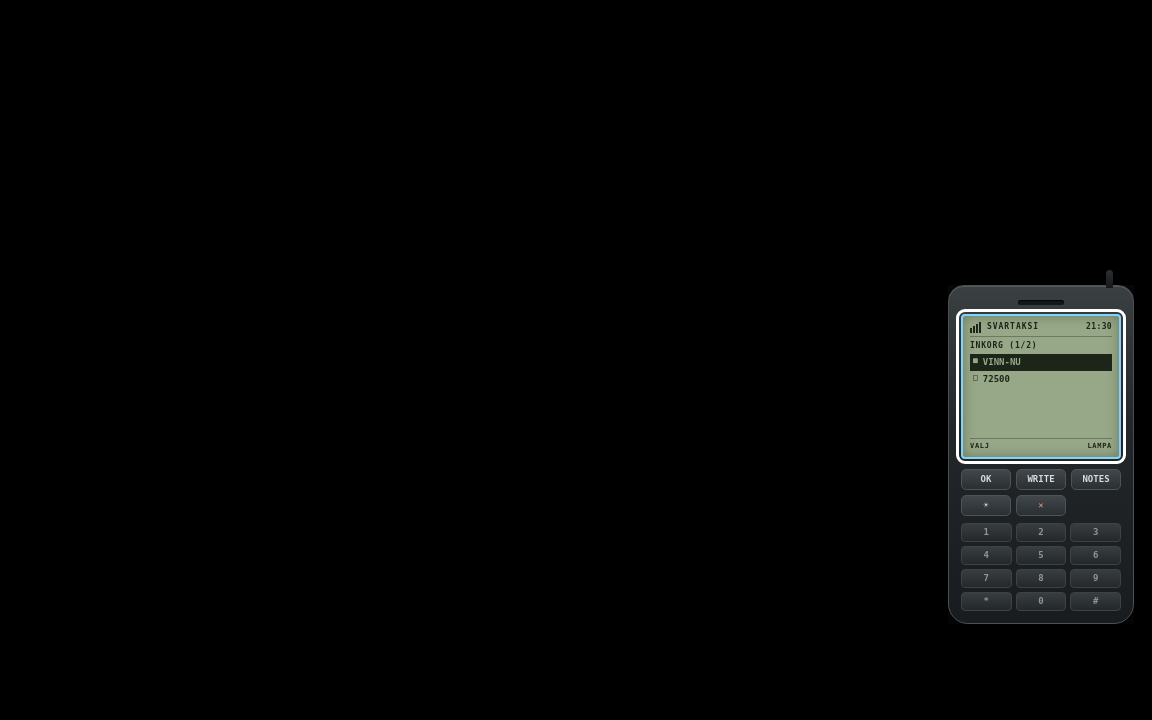
Test case: phone notes (backlog item 11 quest log) › says so when the quest log is empty
Click the button "NOTES" at (1096, 480), box top-left (1071, 469), bottom-right (1121, 490)
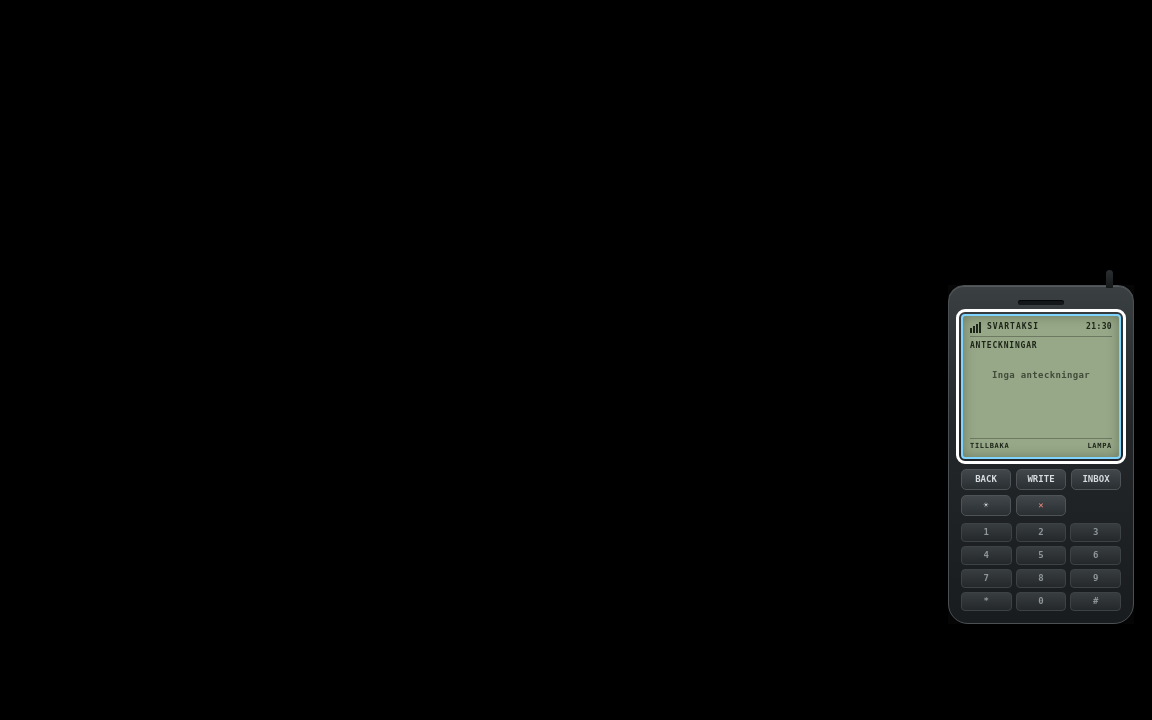
Now the text "Inga anteckningar" is shown, box top-left (992, 370), bottom-right (1090, 380)
